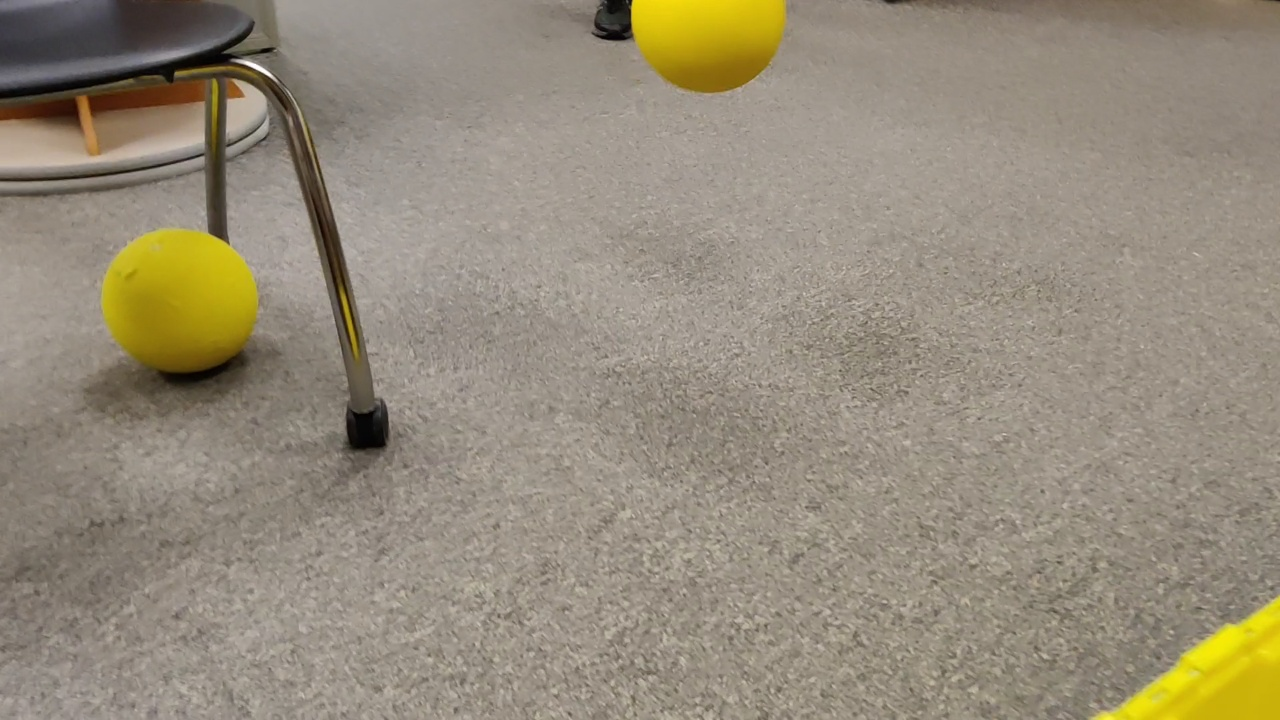Ball: (100, 226, 246, 373), (627, 2, 784, 100)
